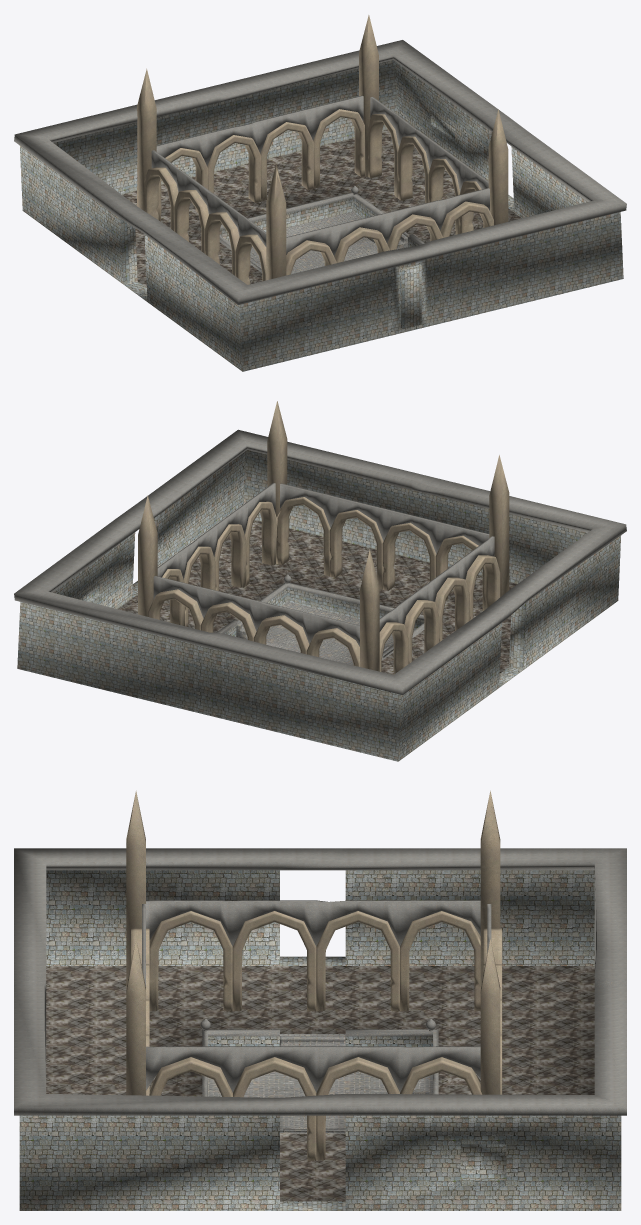
File: claire2.fbx
3 views of the same model, one above another, from view 1: azimuth 30°, elevation 25°; view 2: azimuth 150°, elevation 25°; view 3: azimuth 270°, elevation 25° (orthographic). The views are drawn at different scales.
Parts seen in each view (by area): view 1: Plane; view 2: Plane; view 3: Plane.
Boxes of the visible parts, x1,y1,x2,y2 form: Plane: (14, 15, 626, 371); Plane: (14, 401, 626, 761); Plane: (14, 790, 626, 1210).
Size of the model in its own units: 2293 by 980 by 2288.
Materials: 6 (6 with a texture image).
